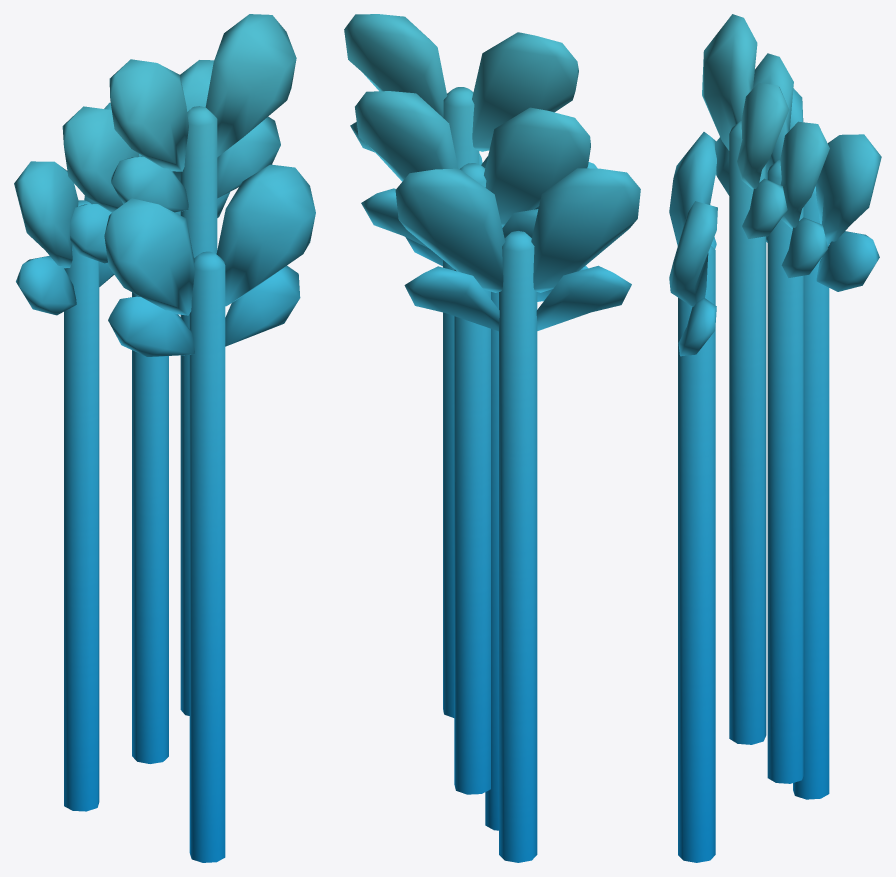
The model's file is ArrowsIcy.fbx.
3 renders of one model, left to right at view 1: azimuth 30°, elevation 25°; view 2: azimuth 150°, elevation 25°; view 3: azimuth 270°, elevation 25°, orthographic. The views are drawn at different scales.
Visible parts, largest first — view 1: IcyArrows; view 2: IcyArrows; view 3: IcyArrows.
Boxes of the visible parts, x1=… form: IcyArrows: x1=14, y1=14, x2=315, y2=862; IcyArrows: x1=344, y1=14, x2=640, y2=862; IcyArrows: x1=669, y1=14, x2=881, y2=862.
Size of the model in its own units: 112 by 308 by 73.23.
